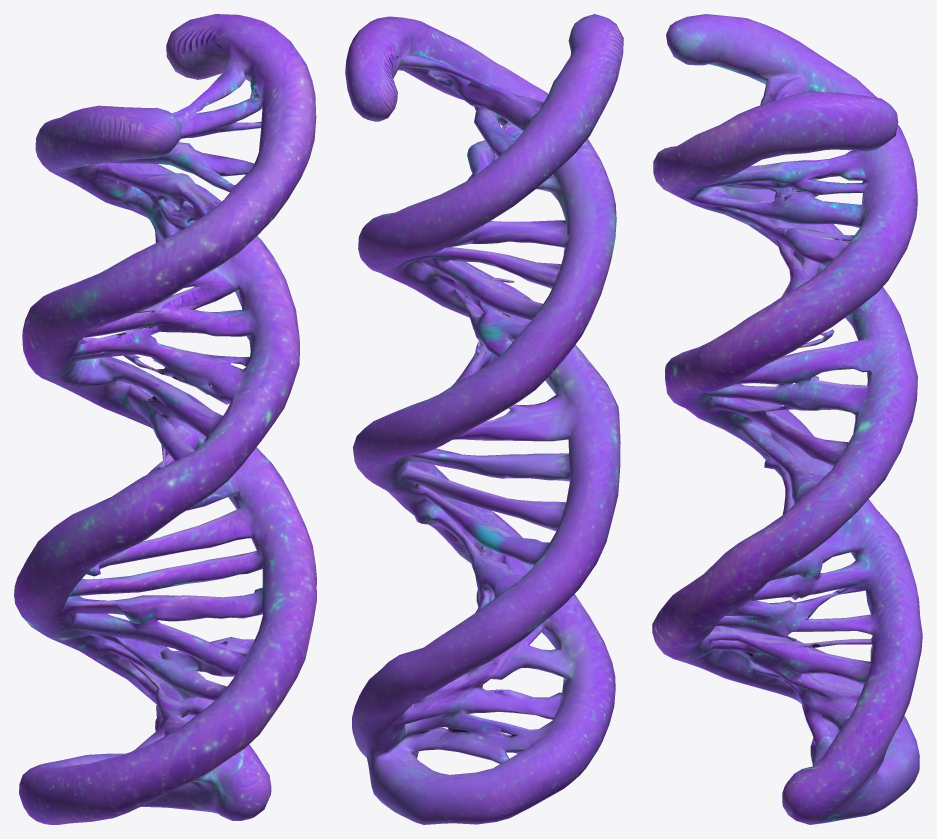
File: A_futuristic_3D_DNA_d_0721112007_texture.fbx
3 renders of one model, left to right at view 1: azimuth 30°, elevation 25°; view 2: azimuth 150°, elevation 25°; view 3: azimuth 270°, elevation 25°, orthographic. The views are drawn at different scales.
Visible parts, largest first — view 1: Mesh_0; view 2: Mesh_0; view 3: Mesh_0.
Boxes of the visible parts, box(x1,y1,x2,y2) form: Mesh_0: box(14, 14, 316, 824); Mesh_0: box(345, 14, 623, 824); Mesh_0: box(652, 14, 922, 824).
Bounding box in the file's own units: 68.44 × 200 × 66.53.
1 material, 1 textured.
